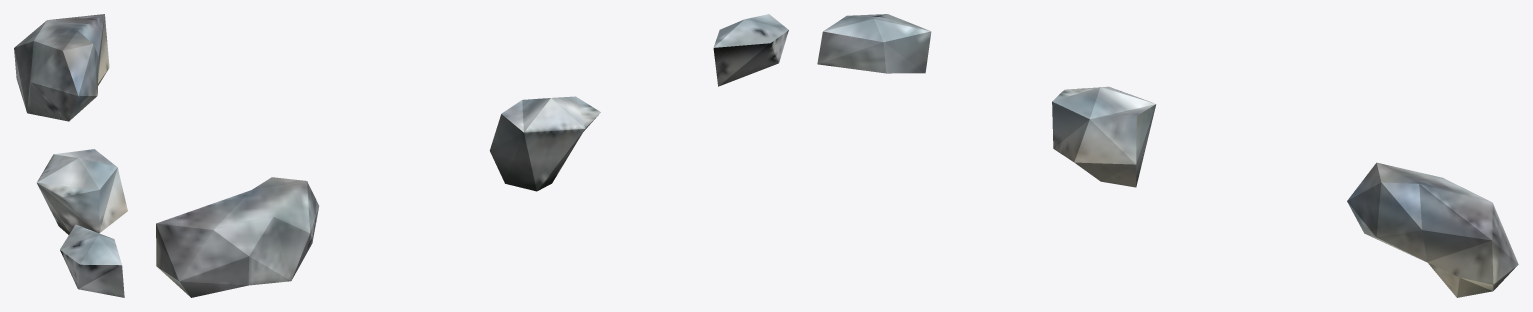
3 views of the same model, side by side, from view 1: azimuth 30°, elevation 25°; view 2: azimuth 150°, elevation 25°; view 3: azimuth 270°, elevation 25° (orthographic). The views are drawn at different scales.
Size of the model in its own units: 0.2135 by 0.0836 by 0.3703.
1 material, 1 textured.
